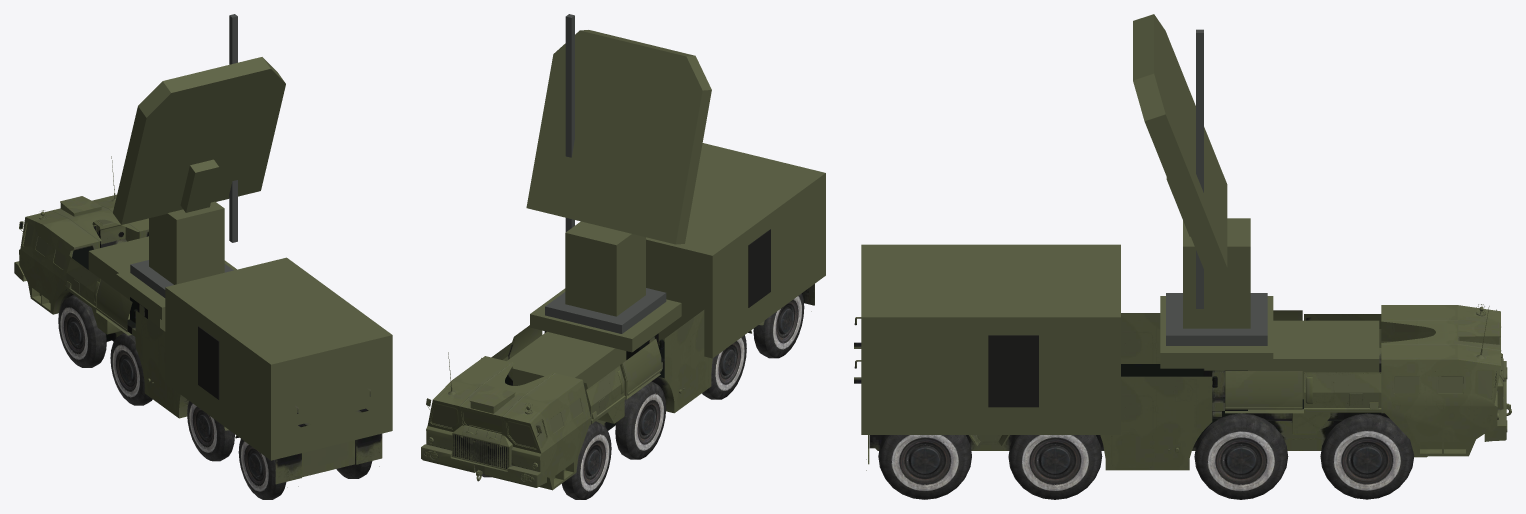
File: radar_30n6e2.glb
The picture shows the model from 3 angles, left to right: view 1: azimuth 30°, elevation 25°; view 2: azimuth 150°, elevation 25°; view 3: azimuth 270°, elevation 25°; orthographic projection. The views are drawn at different scales.
Visible parts, largest first — view 1: radar_30n6e2, antenna; view 2: radar_30n6e2, antenna; view 3: radar_30n6e2, antenna.
Part boxes in pixels (box(x1,y1,x2,y2)): radar_30n6e2: box(14, 156, 392, 499); antenna: box(113, 14, 285, 284); radar_30n6e2: box(421, 143, 825, 499); antenna: box(526, 14, 711, 316); radar_30n6e2: box(854, 244, 1511, 499); antenna: box(1133, 14, 1250, 328).
Bounding box in the file's own units: 3.5 × 9.1 × 11.66.
7 materials, 4 textured.
